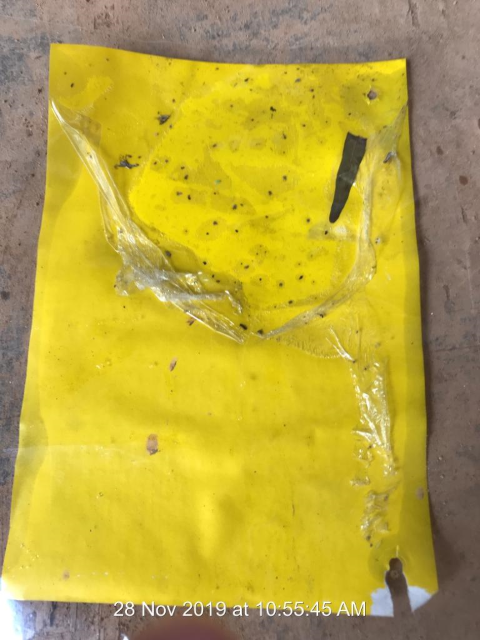DBM: (155, 111, 173, 127), (381, 149, 395, 166)
